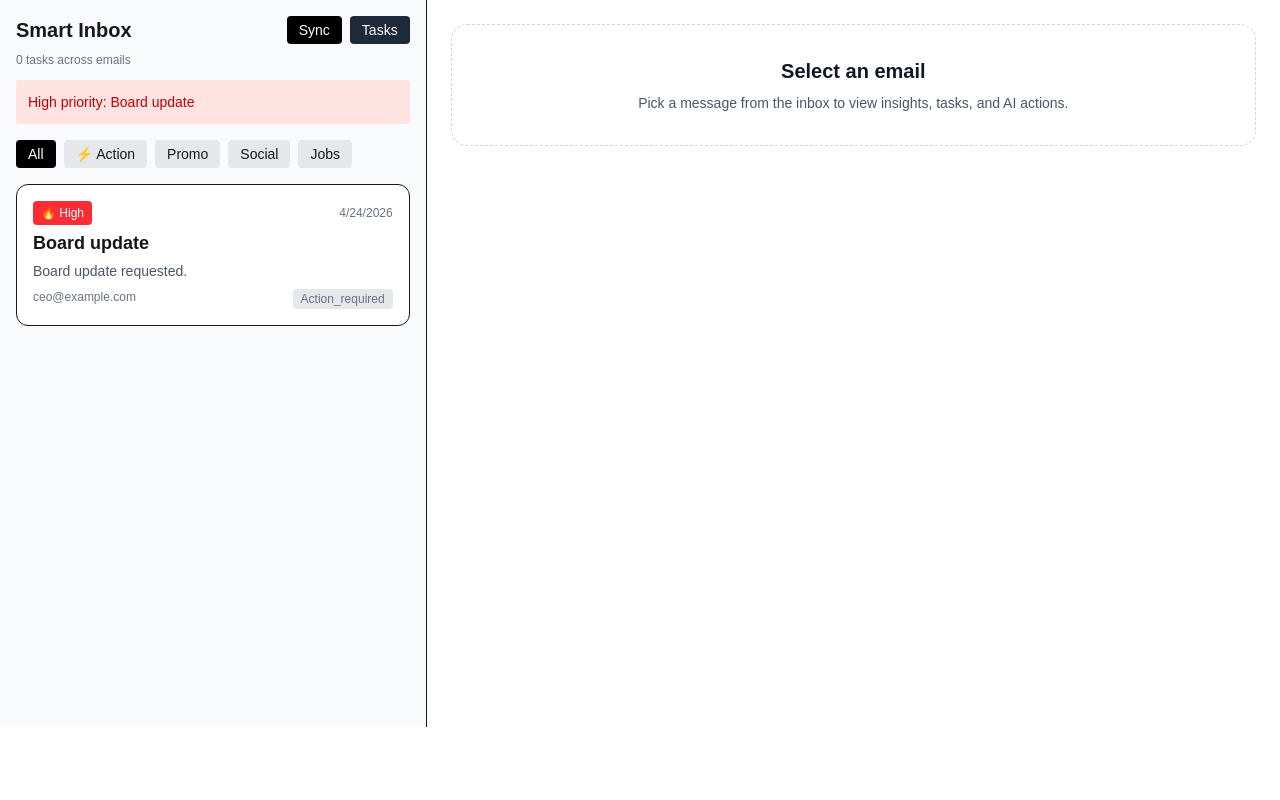
Test case: DashboardPage › renders selected email details after clicking an email
Click the heading "Board update" at (91, 243), box [33,233,149,253]
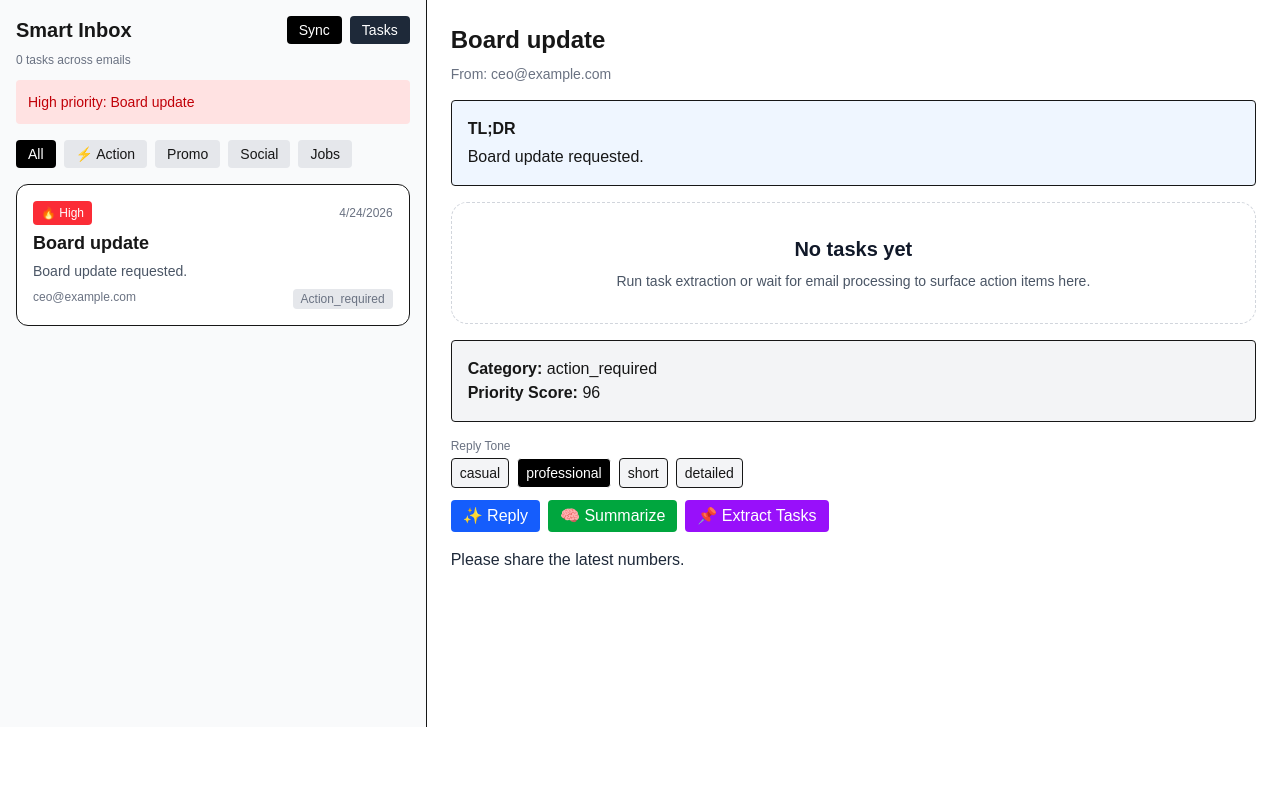
expect the text "Please share the latest numbers." is shown: met, box [451,551,685,568]
